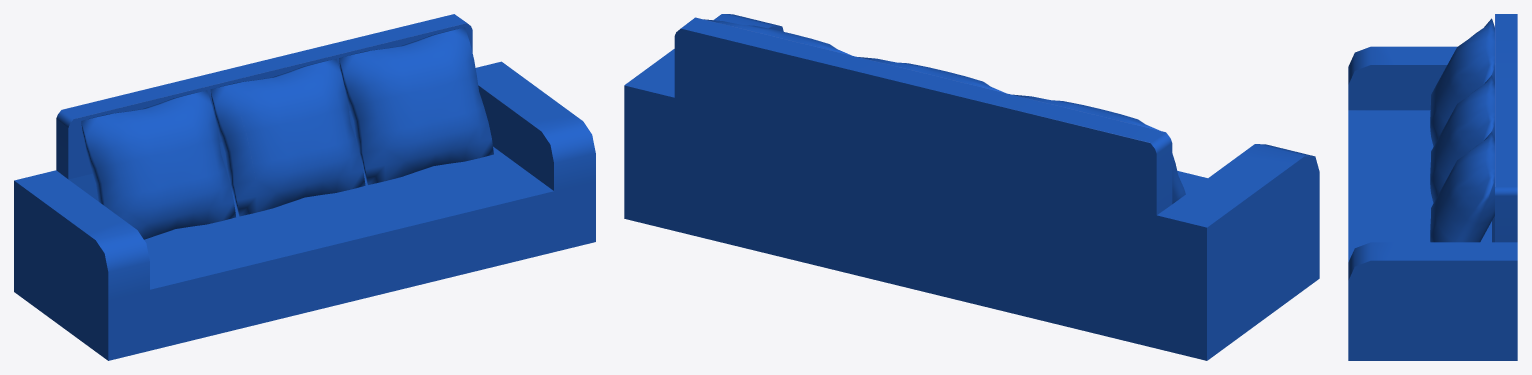
File: X3BoxSofa.fbx
3 renders of one model, left to right at view 1: azimuth 30°, elevation 25°; view 2: azimuth 150°, elevation 25°; view 3: azimuth 270°, elevation 25°, orthographic. The views are drawn at different scales.
Parts seen in each view (by area): view 1: sofa3; view 2: sofa3; view 3: sofa3.
Boxes of the visible parts, <box> form: sofa3: <box>14,14,595,360</box>; sofa3: <box>624,14,1319,360</box>; sofa3: <box>1348,14,1517,360</box>.
Size of the model in its own units: 2.99 by 0.9987 by 1.
Materials: 1 (1 with a texture image).
